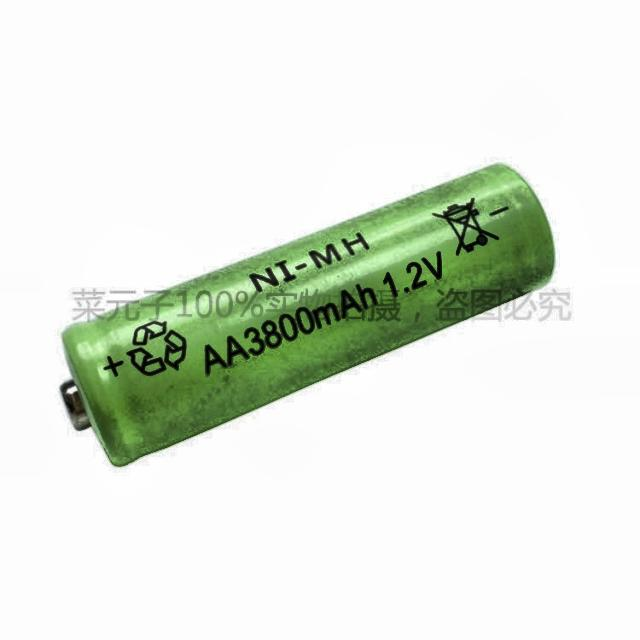Non-Valuable Waste - Batteries: (61, 165, 554, 466)
